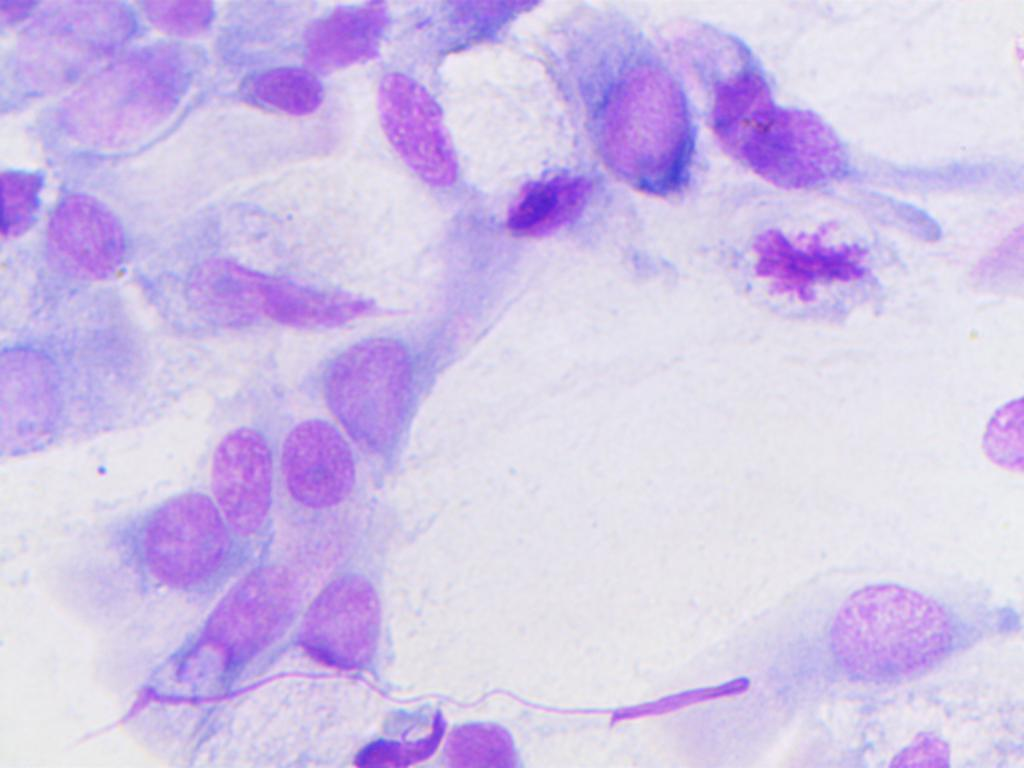artifact: (167, 232, 382, 333), (729, 213, 880, 313), (293, 1, 391, 77)
epithelial: (806, 574, 1006, 692), (586, 29, 703, 201), (351, 60, 494, 198), (52, 30, 210, 150), (0, 0, 149, 100), (326, 330, 419, 476), (0, 312, 74, 469), (42, 177, 132, 301), (111, 493, 225, 590), (265, 406, 353, 531), (489, 158, 596, 258), (211, 411, 277, 537), (228, 58, 327, 134), (962, 376, 1024, 478), (426, 720, 541, 768), (0, 160, 46, 246), (133, 0, 230, 32)
goblet_cell: (693, 19, 851, 202), (292, 557, 389, 760), (186, 565, 305, 694)
